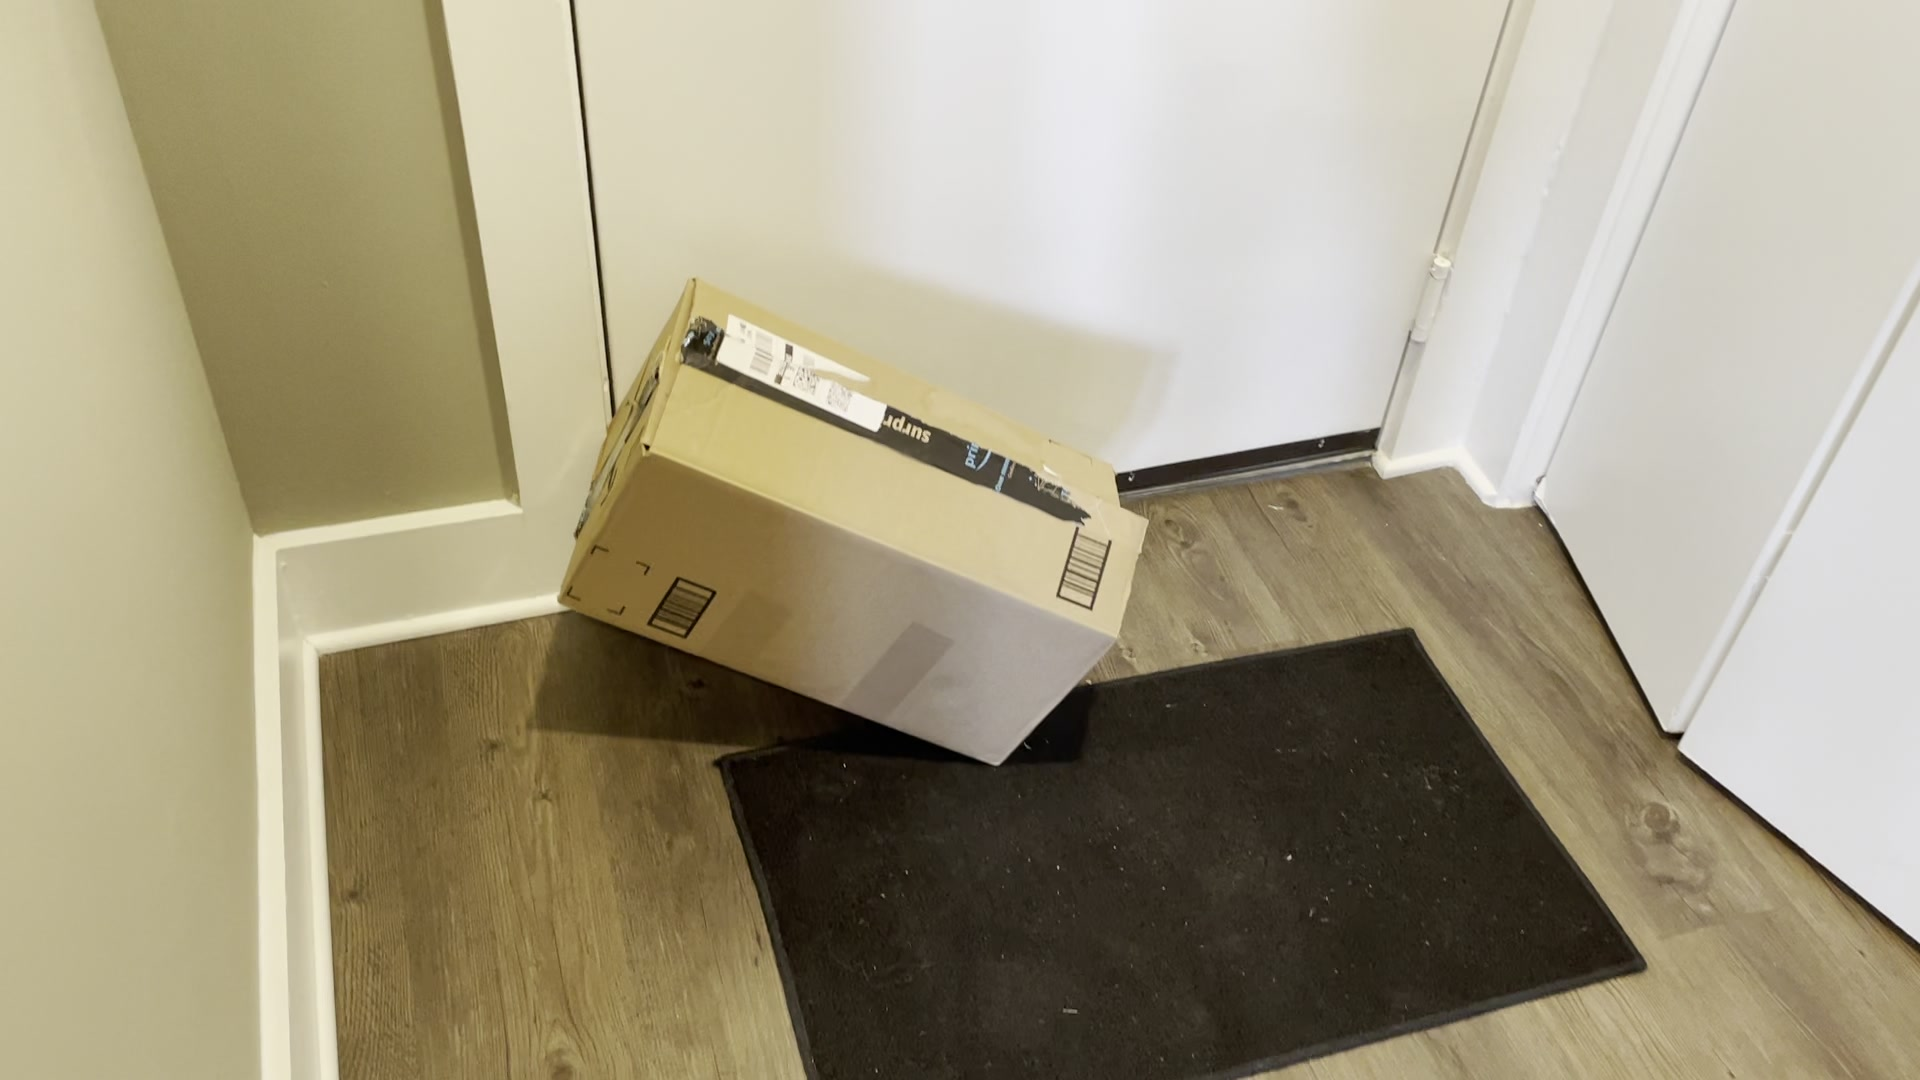box: (572, 235, 1149, 779)
